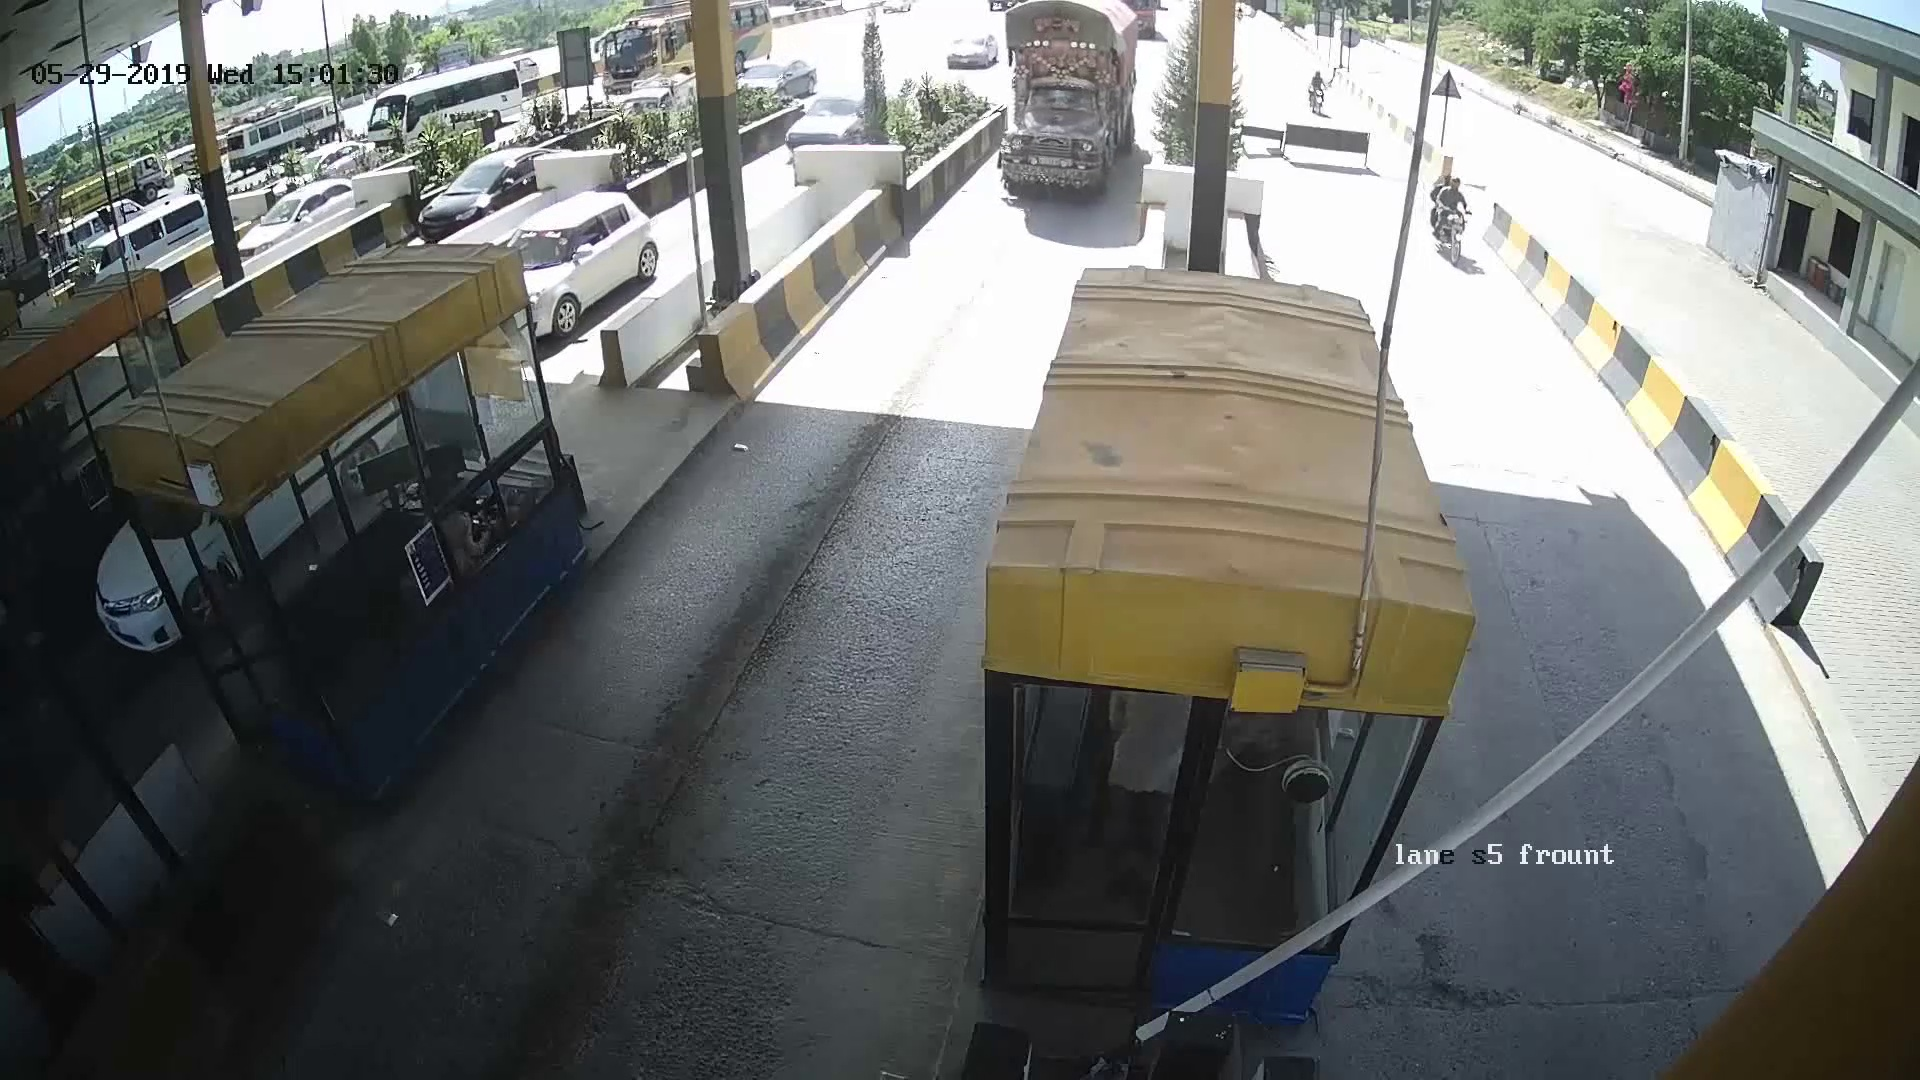truck: (980, 7, 1142, 225)
